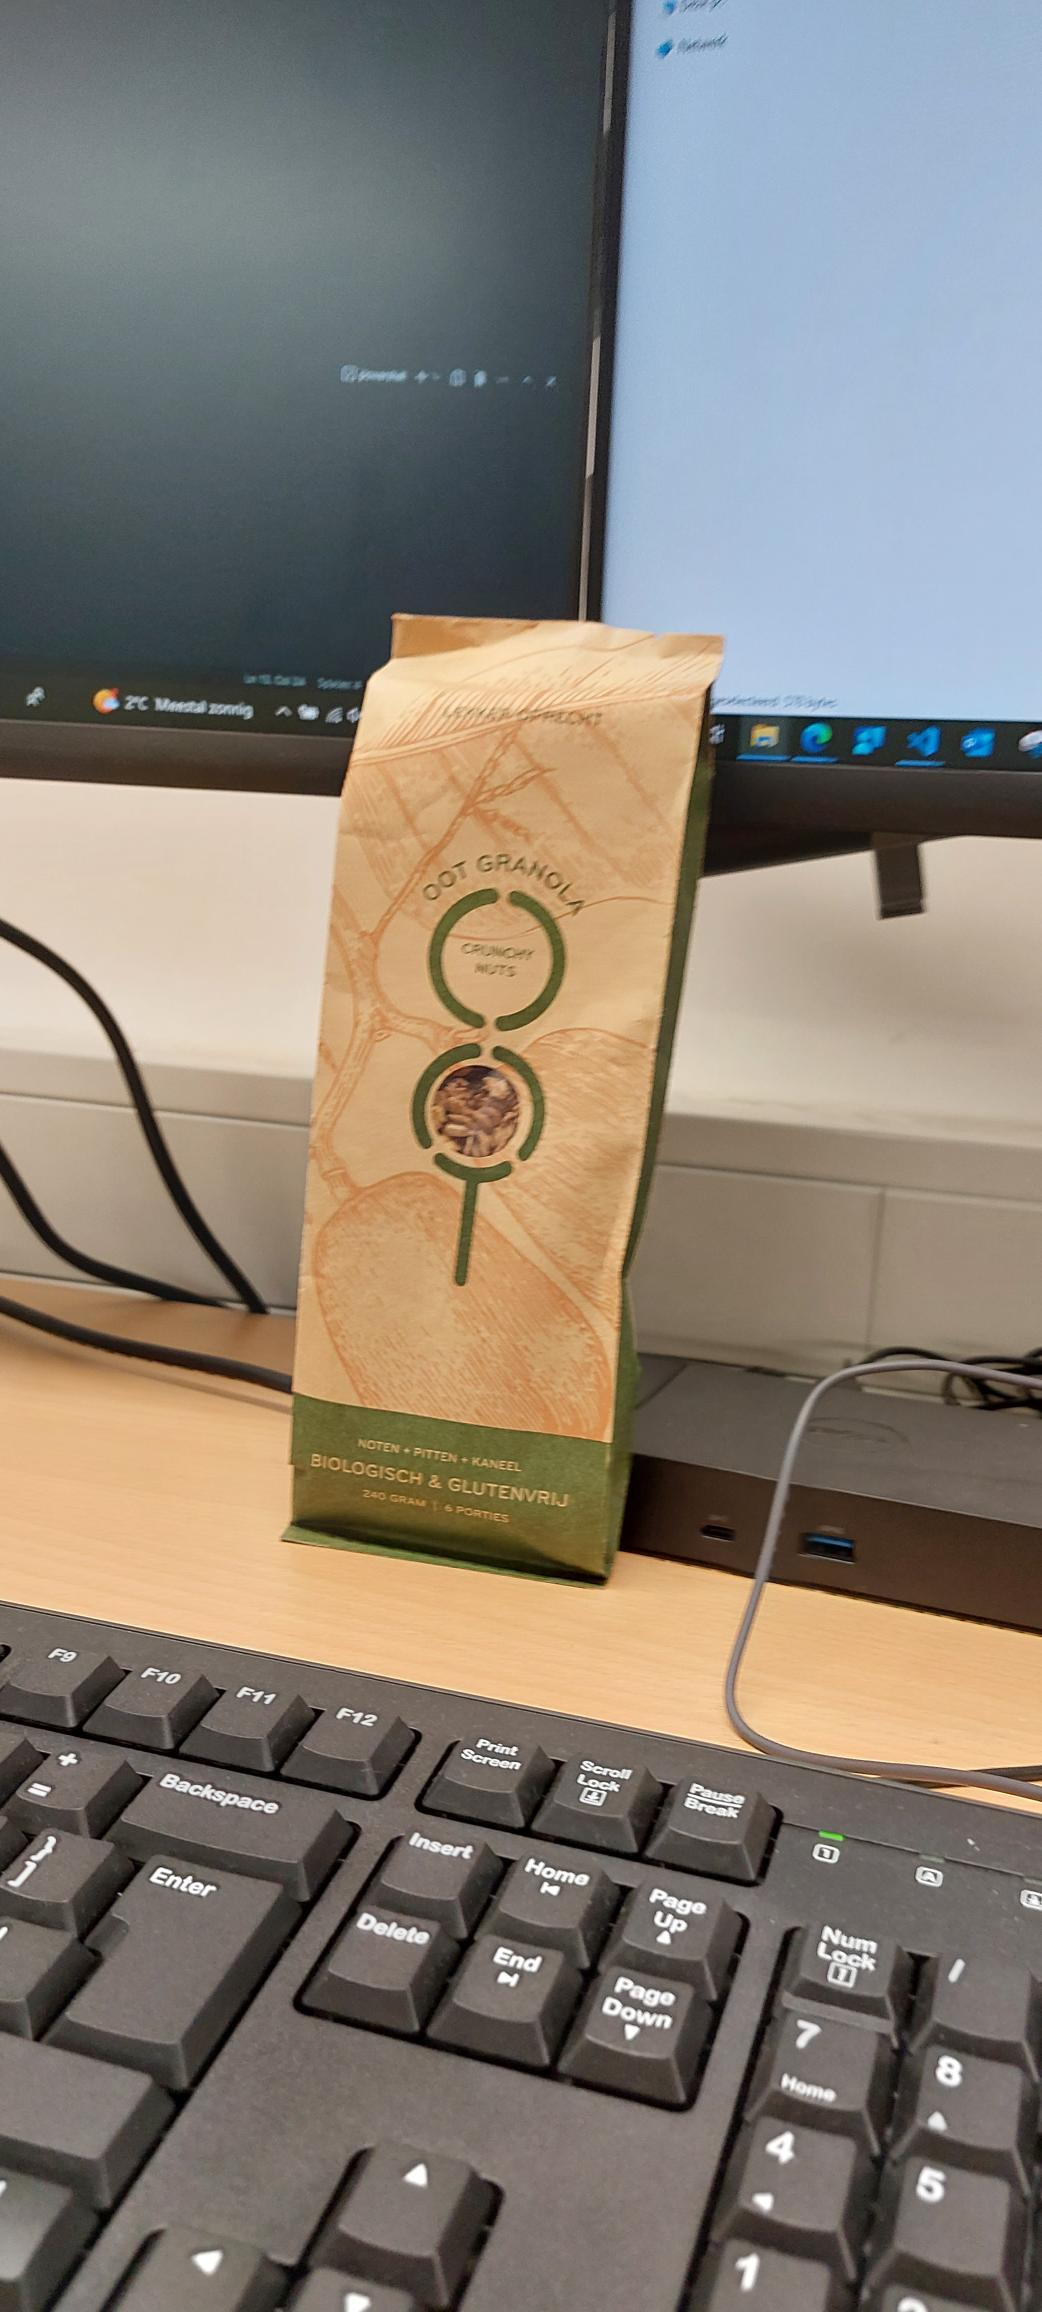CrunchyNuts: (298, 661, 612, 1564)
